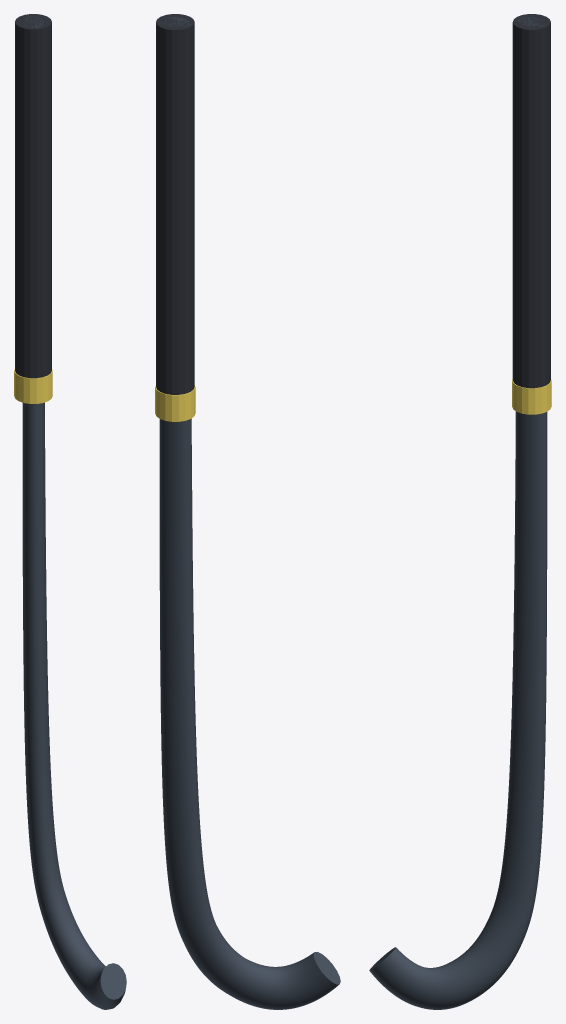
Rendered from uddy_stick.glb.
3 renders of one model, left to right at view 1: azimuth 90°, elevation 25°; view 2: azimuth 150°, elevation 25°; view 3: azimuth 330°, elevation 25°, orthographic. The views are drawn at different scales.
Visible parts, largest first — view 1: uddy_stick_shaft, uddy_stick_grip, uddy_stick_trim; view 2: uddy_stick_shaft, uddy_stick_grip, uddy_stick_trim; view 3: uddy_stick_shaft, uddy_stick_grip, uddy_stick_trim.
Part boxes in pixels (bbox=[...]): uddy_stick_shaft: bbox=[22, 15, 126, 1009]; uddy_stick_grip: bbox=[15, 14, 51, 378]; uddy_stick_trim: bbox=[14, 369, 52, 403]; uddy_stick_shaft: bbox=[159, 17, 340, 1009]; uddy_stick_grip: bbox=[156, 14, 194, 394]; uddy_stick_trim: bbox=[155, 385, 195, 421]; uddy_stick_shaft: bbox=[369, 17, 547, 1009]; uddy_stick_grip: bbox=[512, 14, 550, 388]; uddy_stick_trim: bbox=[512, 379, 551, 414].
Size of the model in its own units: 0.1372 by 0.9348 by 0.1003.
